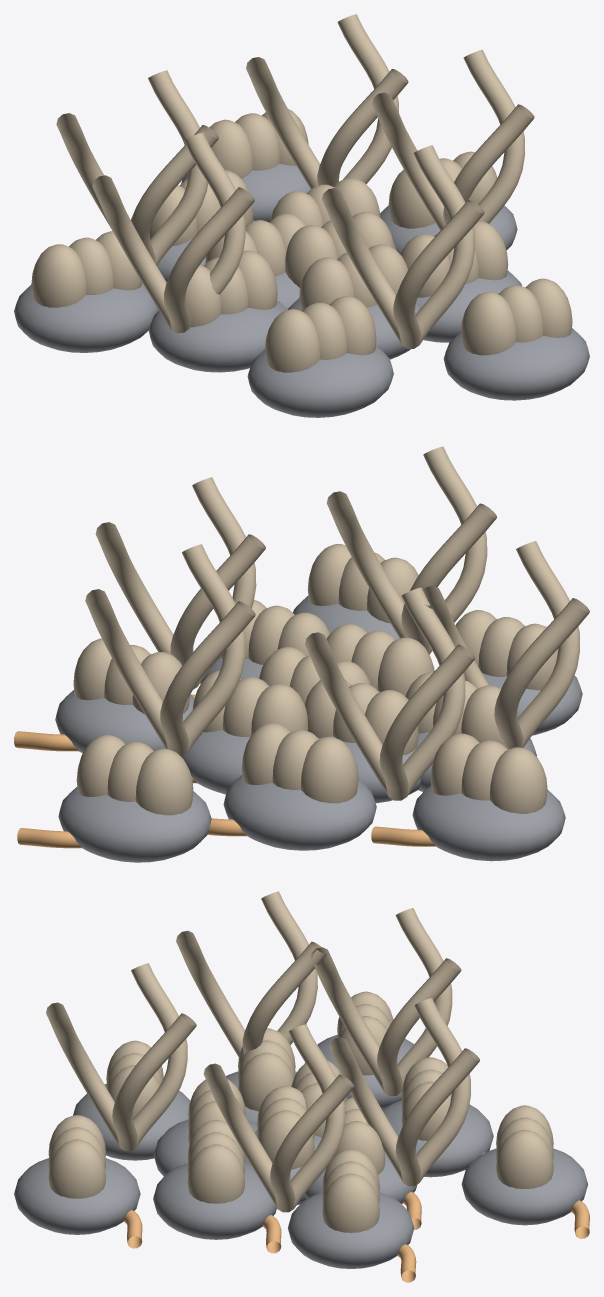
The model's file is bio_acid_mat_14_near.glb.
3 views of the same model, one above another, from view 1: azimuth 30°, elevation 25°; view 2: azimuth 150°, elevation 25°; view 3: azimuth 270°, elevation 25° (orthographic). The views are drawn at different scales.
Parts seen in each view (by area): view 1: Spiral filament.006, Spiral filament.012, Spiral filament.009, Spiral filament, Spiral filament.003, Microbial cushion.007, Microbial cushion.010, Microbial cushion.009, Reaction vesicle.030, Reaction vesicle.021, Microbial cushion.004, Reaction vesicle.027 (+15 smaller); view 2: Spiral filament.009, Spiral filament.003, Spiral filament.006, Spiral filament.012, Spiral filament, Microbial cushion.011, Microbial cushion.006, Microbial cushion.009, Reaction vesicle.027, Reaction vesicle.033, Reaction vesicle.018, Reaction vesicle.006 (+17 smaller); view 3: Spiral filament.006, Spiral filament, Spiral filament.009, Spiral filament.003, Spiral filament.012, Microbial cushion.008, Microbial cushion.010, Microbial cushion.011, Microbial cushion.005, Reaction vesicle.033, Reaction vesicle.024, Reaction vesicle.030 (+18 smaller).
Boxes of the visible parts, bbox=[...] form: Spiral filament.006: bbox=[322, 145, 484, 348]; Spiral filament.012: bbox=[92, 132, 254, 333]; Spiral filament.009: bbox=[246, 14, 408, 188]; Spiral filament: bbox=[372, 49, 534, 230]; Spiral filament.003: bbox=[56, 70, 218, 265]; Microbial cushion.007: bbox=[247, 345, 393, 417]; Microbial cushion.010: bbox=[443, 328, 589, 400]; Microbial cushion.009: bbox=[14, 282, 158, 352]; Reaction vesicle.030: bbox=[461, 278, 572, 355]; Reaction vesicle.021: bbox=[265, 296, 376, 372]; Microbial cushion.004: bbox=[148, 300, 287, 372]; Reaction vesicle.027: bbox=[31, 231, 141, 307]; Spiral filament.009: bbox=[85, 544, 255, 756]; Spiral filament.003: bbox=[305, 587, 475, 800]; Spiral filament.006: bbox=[326, 446, 496, 654]; Spiral filament.012: bbox=[423, 541, 589, 748]; Spiral filament: bbox=[95, 477, 265, 689]; Microbial cushion.011: bbox=[58, 787, 211, 862]; Microbial cushion.006: bbox=[223, 775, 376, 850]; Microbial cushion.009: bbox=[412, 785, 565, 861]; Reaction vesicle.027: bbox=[430, 733, 547, 813]; Reaction vesicle.033: bbox=[76, 735, 193, 815]; Reaction vesicle.018: bbox=[241, 723, 358, 803]; Reaction vesicle.006: bbox=[326, 623, 434, 696]; Spiral filament.006: bbox=[46, 963, 196, 1151]; Spiral filament: bbox=[203, 1024, 354, 1212]; Spiral filament.009: bbox=[329, 998, 479, 1186]; Spiral filament.003: bbox=[310, 908, 461, 1095]; Spiral filament.012: bbox=[176, 891, 326, 1057]; Microbial cushion.008: bbox=[288, 1192, 414, 1268]; Microbial cushion.010: bbox=[14, 1158, 140, 1234]; Microbial cushion.011: bbox=[461, 1148, 587, 1225]; Microbial cushion.005: bbox=[153, 1163, 276, 1239]; Reaction vesicle.033: bbox=[496, 1105, 553, 1188]; Reaction vesicle.024: bbox=[322, 1149, 379, 1232]; Reaction vesicle.030: bbox=[48, 1115, 105, 1198].
Bounding box in the file's own units: 1.83 × 0.7414 × 2.
